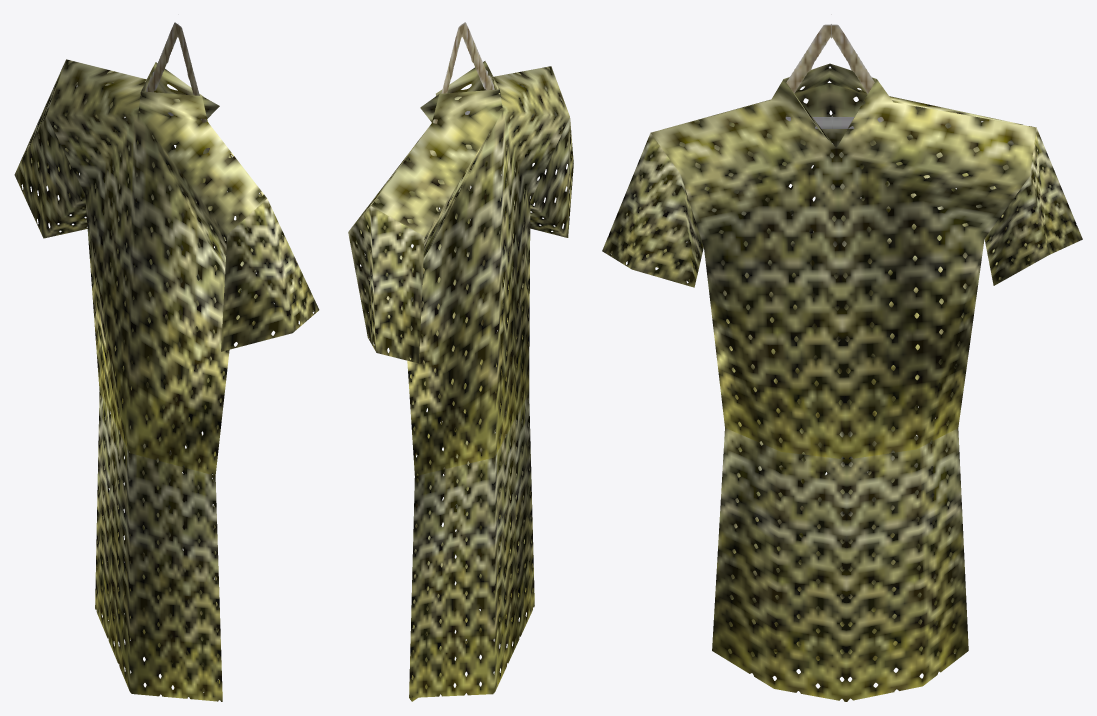
The model's file is armormailhanginggoldlong.obj.
3 views of the same model, side by side, from view 1: azimuth 30°, elevation 25°; view 2: azimuth 150°, elevation 25°; view 3: azimuth 270°, elevation 25° (orthographic). The views are drawn at different scales.
Visible parts, largest first — view 1: armormailhanginggoldlong; view 2: armormailhanginggoldlong; view 3: armormailhanginggoldlong.
Part boxes in pixels (<box>): armormailhanginggoldlong: <box>14,22,319,701</box>; armormailhanginggoldlong: <box>348,22,573,701</box>; armormailhanginggoldlong: <box>602,14,1082,701</box>.
Bounding box in the file's own units: 0.1716 × 1.25 × 0.7998.
Materials: 1 (1 with a texture image).
